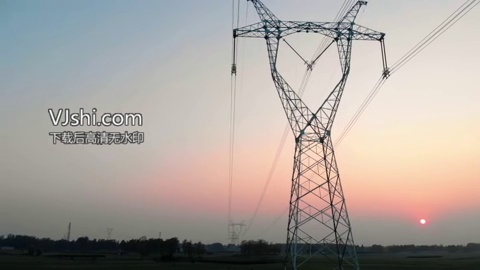tower_body: (227, 1, 400, 270)
tower_foot: (287, 197, 360, 267)
tower_head: (231, 2, 397, 141)
